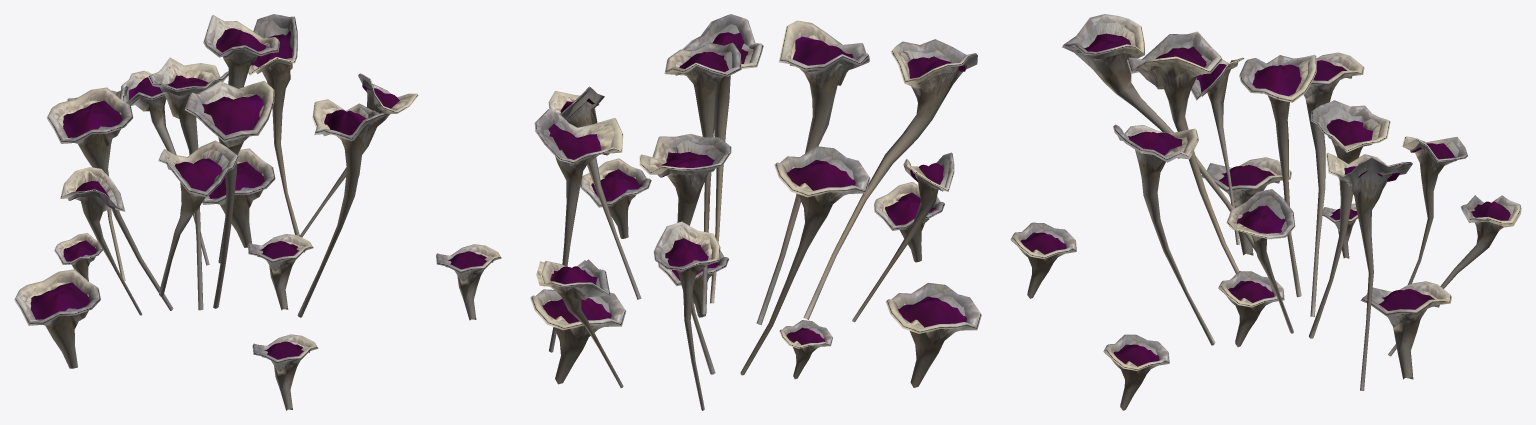
File: BIO_VEG_Mushroom.fbx
3 views of the same model, side by side, from view 1: azimuth 30°, elevation 25°; view 2: azimuth 150°, elevation 25°; view 3: azimuth 270°, elevation 25° (orthographic). The views are drawn at different scales.
Parts seen in each view (by area): view 1: BIO_VEG_Mushroom; view 2: BIO_VEG_Mushroom; view 3: BIO_VEG_Mushroom.
Part boxes in pixels (x1=…): BIO_VEG_Mushroom: x1=14, y1=14, x2=501, y2=410; BIO_VEG_Mushroom: x1=530, y1=14, x2=981, y2=410; BIO_VEG_Mushroom: x1=1010, y1=14, x2=1521, y2=410.
Bounding box in the file's own units: 94.14 × 62.11 × 99.14.
